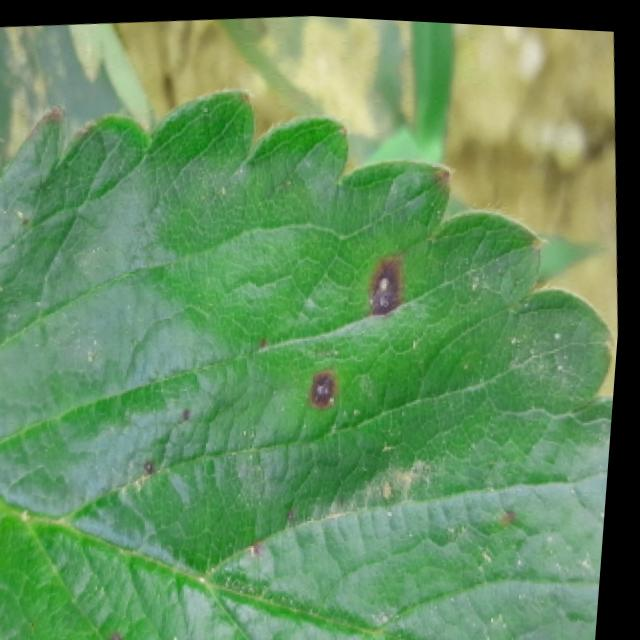Leaf Spot: (0, 85, 622, 640)
